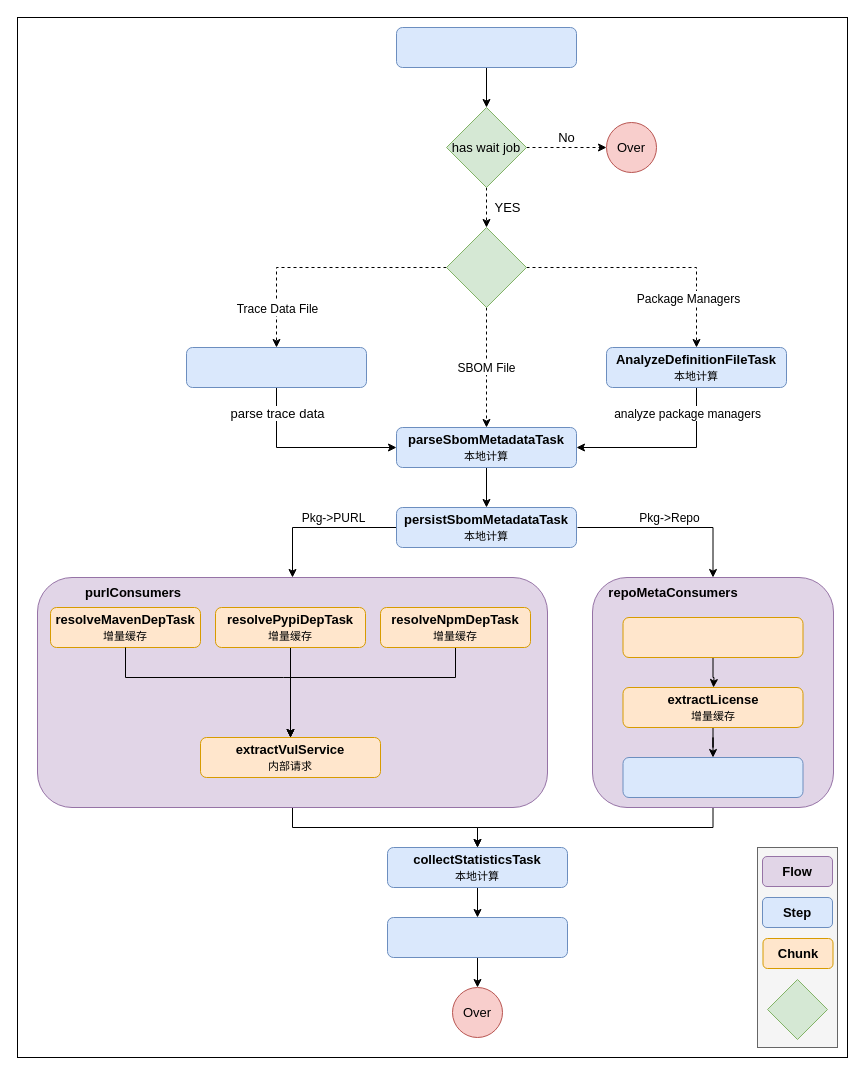
Some shapes in this 865 by 1075 pixel diagram are drawn without their labels. Each missing label, with the box of its shape:
AnalyzeTraceDataTask 本地计算: (186, 346, 366, 388)
Decider: (766, 978, 828, 1040)
fillUpLicense 本地计算: (622, 756, 803, 798)
readSbomEndTask 本地计算: (386, 916, 568, 958)
selectWaitRawSbomTask 本地计算: (396, 26, 576, 68)
skipAnalyzeSbomContentDecider: (446, 226, 526, 308)
supplySourceInfo 增量缓存: (622, 616, 803, 658)
